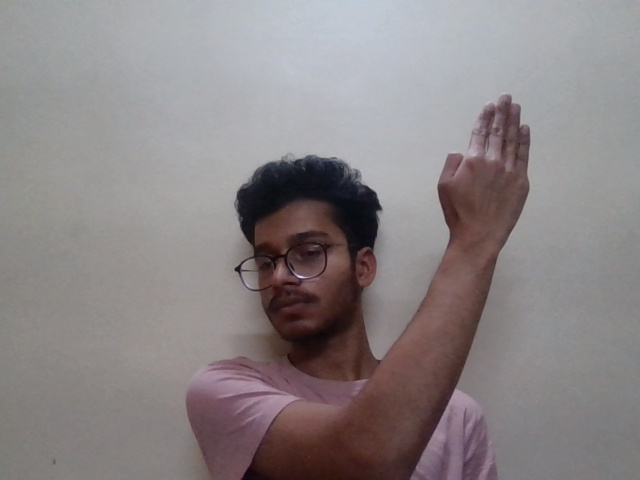good-bye: (417, 71, 549, 263)
